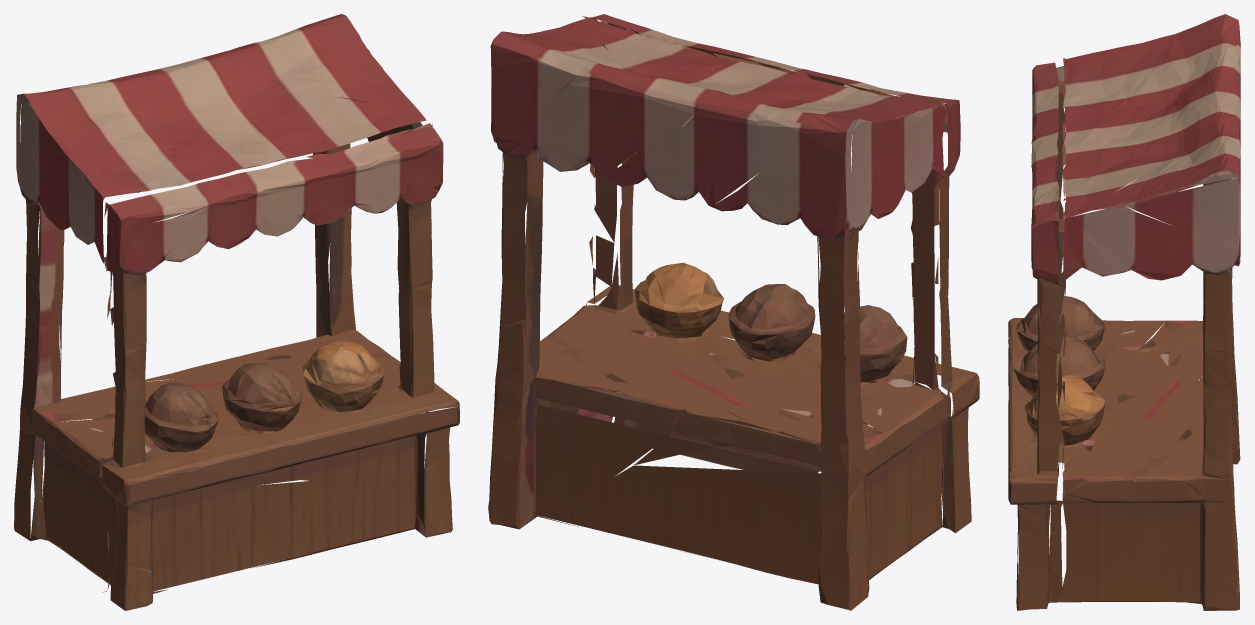
Rendered from game_nuts.glb.
3 views of the same model, side by side, from view 1: azimuth 30°, elevation 25°; view 2: azimuth 150°, elevation 25°; view 3: azimuth 270°, elevation 25° (orthographic). The views are drawn at different scales.
Parts seen in each view (by area): view 1: geometry_0; view 2: geometry_0; view 3: geometry_0.
Part boxes in pixels (x1=…): geometry_0: x1=14, y1=14, x2=459, y2=610; geometry_0: x1=488, y1=14, x2=979, y2=610; geometry_0: x1=1008, y1=14, x2=1240, y2=610.
Size of the model in its own units: 1.8 by 2.25 by 1.08.
1 material, 1 textured.
